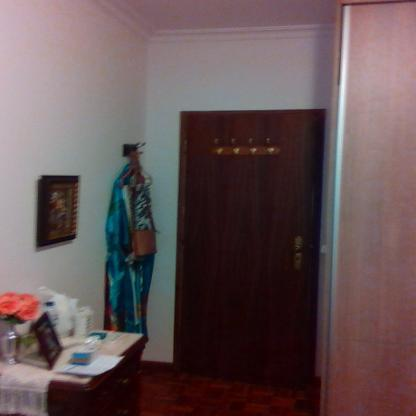door: (188, 114, 313, 388)
hinged: (180, 206, 186, 222), (184, 138, 190, 153)
knob: (291, 244, 303, 256)
